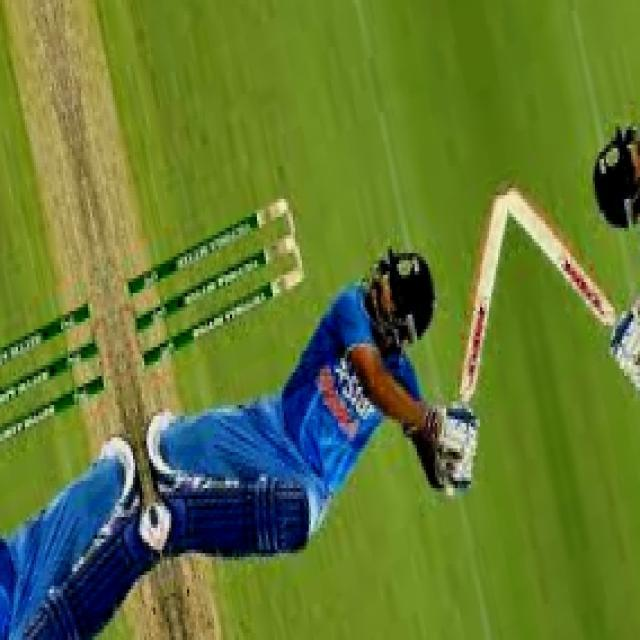bat: (444, 198, 512, 423)
toe: (480, 196, 520, 213)
